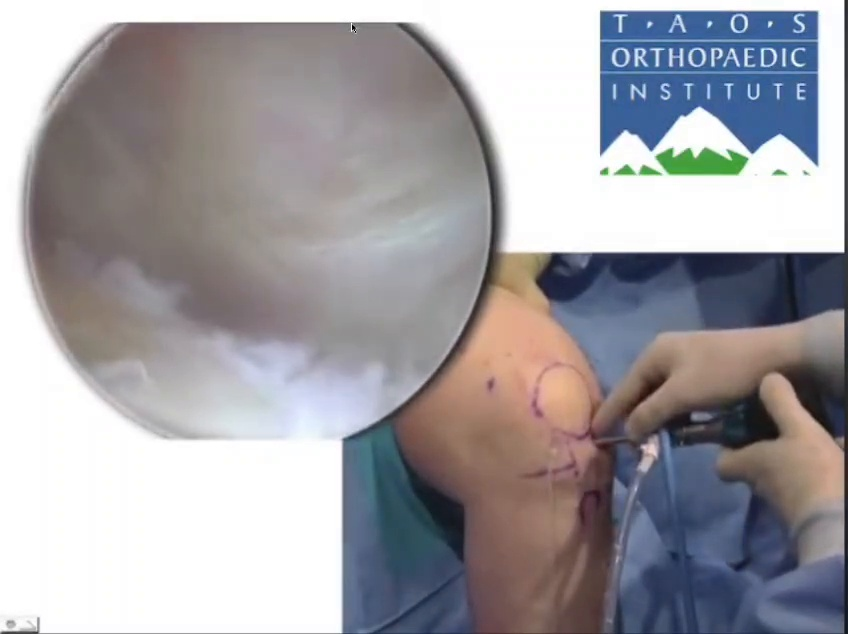arthroscope: (504, 271, 848, 599)
probe: (604, 423, 685, 593), (514, 487, 589, 561)
